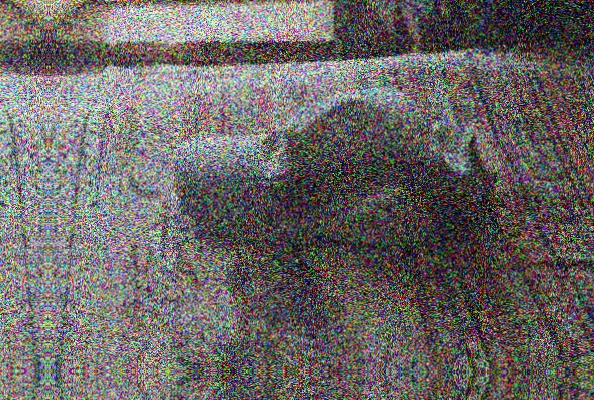Hat: (141, 67, 509, 265)
